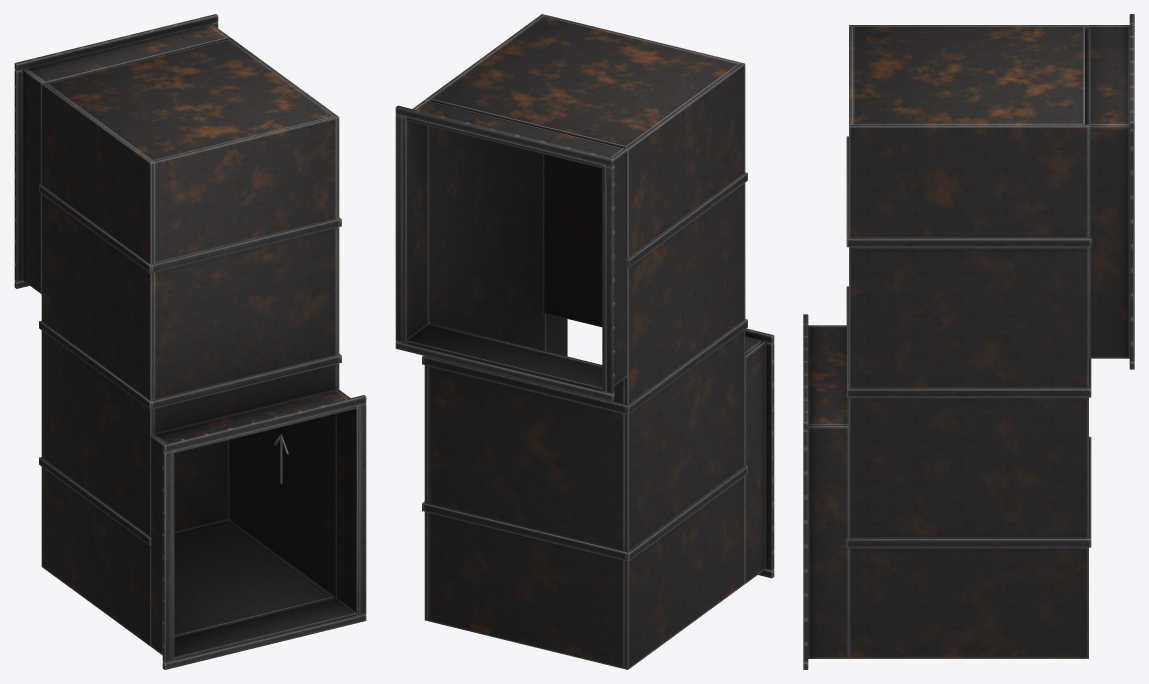
Rendered from DuctRiser.fbx.
3 views of the same model, side by side, from view 1: azimuth 30°, elevation 25°; view 2: azimuth 150°, elevation 25°; view 3: azimuth 270°, elevation 25° (orthographic). The views are drawn at different scales.
Parts seen in each view (by area): view 1: DuctRiser; view 2: DuctRiser; view 3: DuctRiser.
Part boxes in pixels (x1,y1,x2,y2): DuctRiser: (14,14,366,669); DuctRiser: (395,14,774,669); DuctRiser: (803,14,1134,669).
Bounding box in the file's own units: 625 × 1465 × 800.
